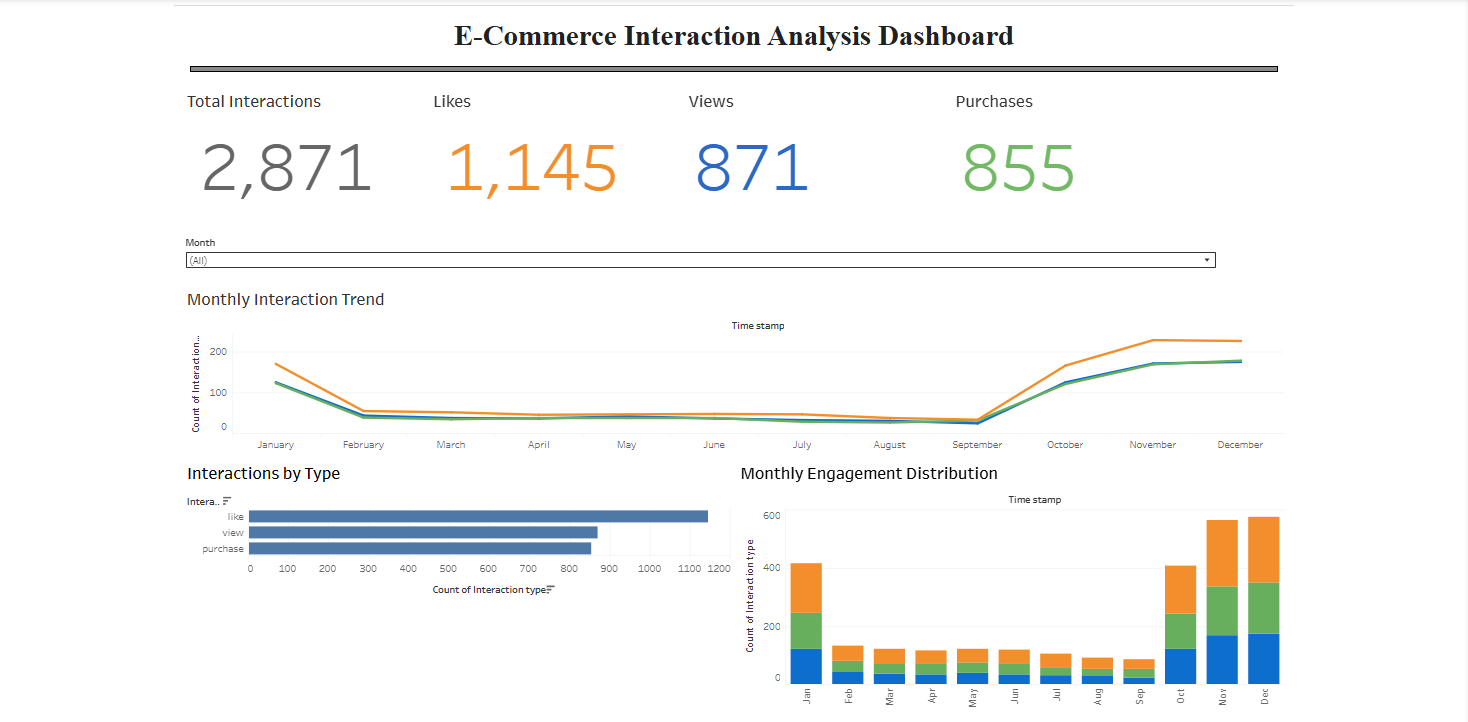

The dashboard page shown, as its layout file describes it:
{"tool":"tableau","page":{"name":"Dashboard 1","canvas":[1400,900],"ordinal":0},"visuals":[{"type":"text","box":[8,8,1384,55]},{"type":"blank","box":[8,63,1384,32]},{"type":"worksheet","title":"Total Interactions","mark":"Automatic","box":[8,95,308,196.3]},{"type":"worksheet","title":"Likes","mark":"Automatic","box":[316,95,319,196.3]},{"type":"worksheet","title":"Views","mark":"Automatic","box":[635,95,334,196.3]},{"type":"worksheet","title":"Purchases","mark":"Automatic","box":[969,95,423,196.3]},{"type":"filter","title":"Monthly Interaction Trend","param":"[federated.1ac4iqh1byhzbi164w8ns0wdc86n].[mn:Time stamp:ok]","box":[14,288,1289,44]},{"type":"legend","title":"Monthly Engagement Distribution","param":"[federated.1ac4iqh1byhzbi164w8ns0wdc86n].[none:Interaction type:nk]","box":[8,291.3,1384,51.7]},{"type":"worksheet","title":"Monthly Interaction Trend","mark":"Automatic","rows":["Interaction type"],"cols":["Time stamp"],"box":[8,343,1384,217]},{"type":"worksheet","title":"Interactions by Type","mark":"Automatic","rows":["Interaction type"],"cols":["Interaction type"],"box":[8,560,692,332]},{"type":"worksheet","title":"Monthly Engagement Distribution","mark":"Bar","rows":["Interaction type"],"cols":["Time stamp"],"box":[700,560,692,332]}]}

Visuals, with their boxes on the page's 1400x900 design canvas (x1, y1, x2, y2). These are canvas units, not pixel positions in the 1468x722 screenshot, which may show the page scaled, cropped or inside an application window:
text: <box>8,8,1392,63</box>
blank: <box>8,63,1392,95</box>
"Total Interactions" worksheet: <box>8,95,316,291</box>
"Likes" worksheet: <box>316,95,635,291</box>
"Views" worksheet: <box>635,95,969,291</box>
"Purchases" worksheet: <box>969,95,1392,291</box>
"Monthly Interaction Trend" filter: <box>14,288,1303,332</box>
"Monthly Engagement Distribution" legend: <box>8,291,1392,343</box>
"Monthly Interaction Trend" worksheet: <box>8,343,1392,560</box>
"Interactions by Type" worksheet: <box>8,560,700,892</box>
"Monthly Engagement Distribution" worksheet (Bar marks): <box>700,560,1392,892</box>
